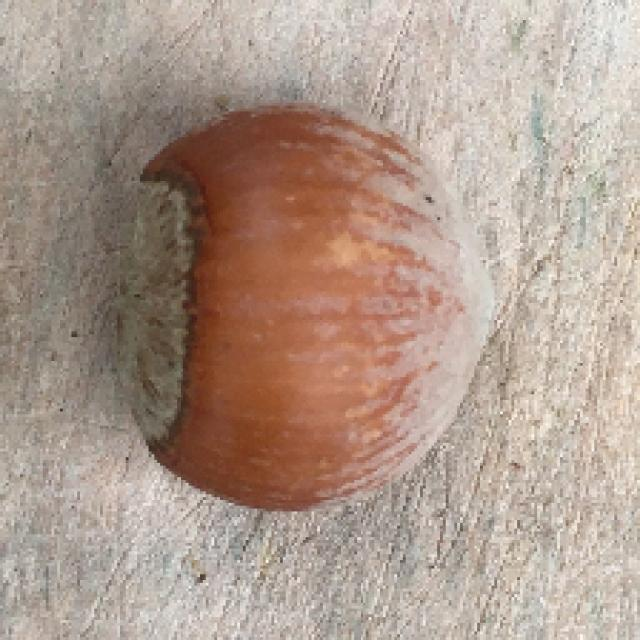qualityHazelnut: (119, 108, 503, 508)
